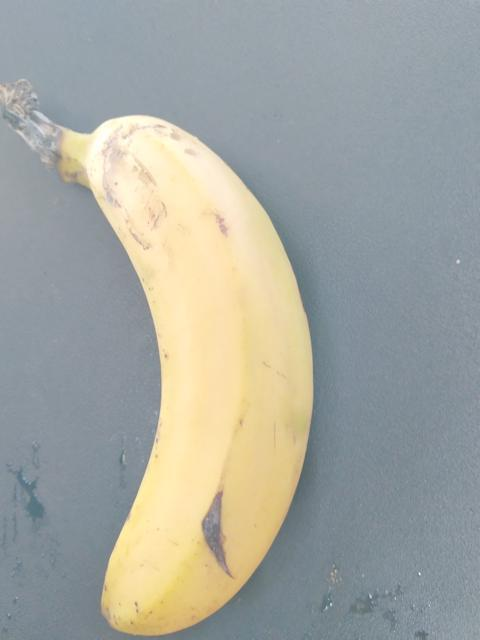ripe: (58, 112, 351, 639)
